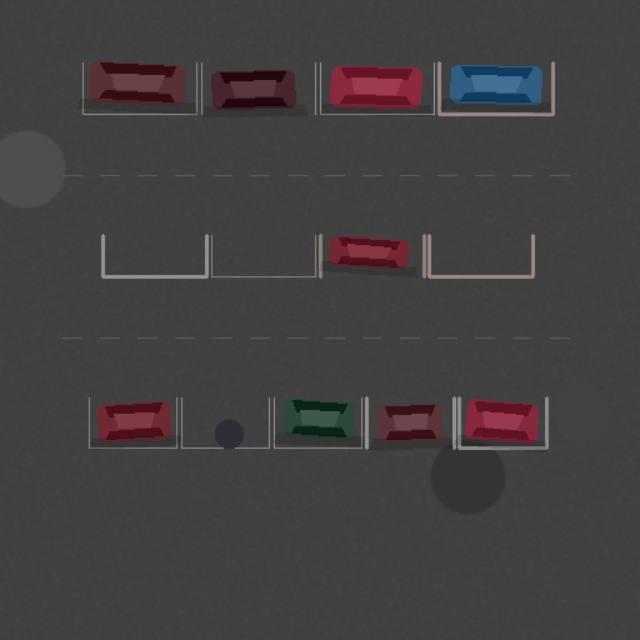space-empty: (181, 397, 269, 447), (211, 235, 315, 276), (429, 235, 533, 276), (103, 235, 206, 276)
space-occupied: (82, 62, 196, 114), (201, 62, 315, 114), (320, 62, 434, 114), (439, 62, 552, 114), (366, 397, 454, 447), (89, 397, 176, 447), (274, 397, 361, 447), (459, 397, 546, 447), (320, 235, 424, 276)
